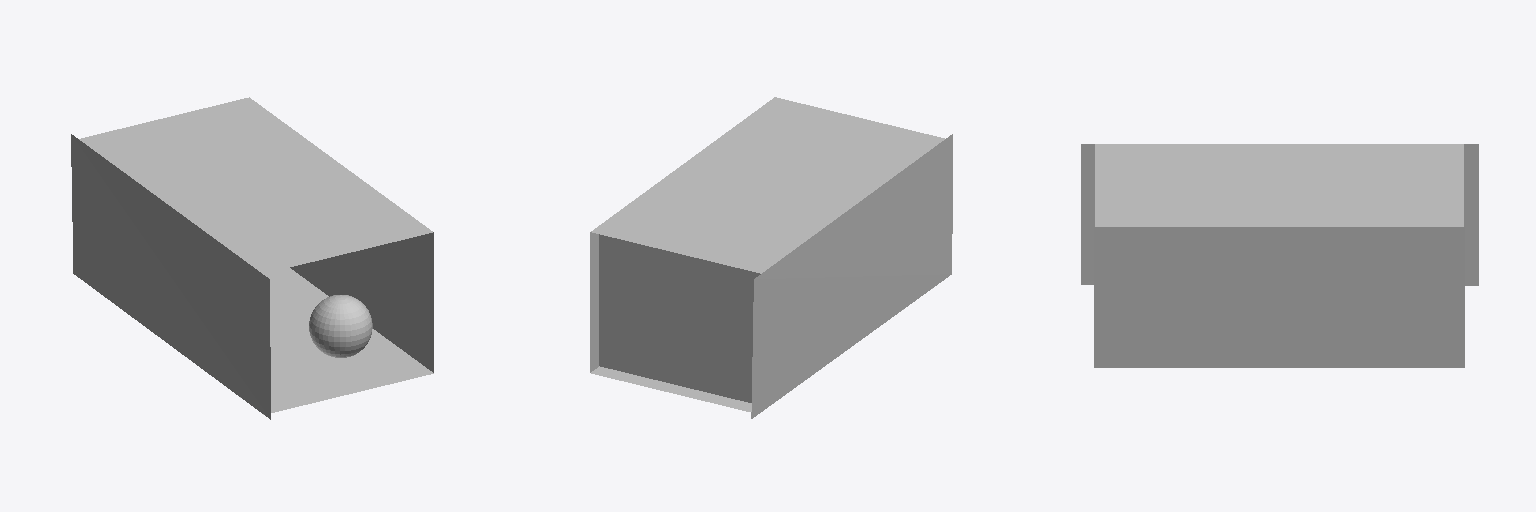
The model's file is CornellBox-Sphere-mod.obj.
3 views of the same model, side by side, from view 1: azimuth 30°, elevation 25°; view 2: azimuth 150°, elevation 25°; view 3: azimuth 270°, elevation 25° (orthographic).
Visible parts, largest first — view 1: ceiling, leftWall, floor, rightWall, rightSphere; view 2: ceiling, leftWall, backWall, floor, rightWall; view 3: rightWall, ceiling, leftWall.
Boxes of the visible parts, box(x1,y1,x2,y2) form: ceiling: box(79, 97, 432, 273); leftWall: box(71, 134, 270, 419); floor: box(240, 268, 433, 414); rightWall: box(290, 232, 433, 372); rightSphere: box(309, 295, 372, 357); ceiling: box(591, 97, 944, 273); leftWall: box(751, 134, 952, 418); backWall: box(599, 234, 760, 402); floor: box(591, 288, 932, 411); rightWall: box(590, 232, 598, 372); rightWall: box(1094, 227, 1464, 367); ceiling: box(1095, 144, 1463, 226); leftWall: box(1081, 144, 1478, 285).
Size of the model in its own units: 2.02 by 1.59 by 4.08.